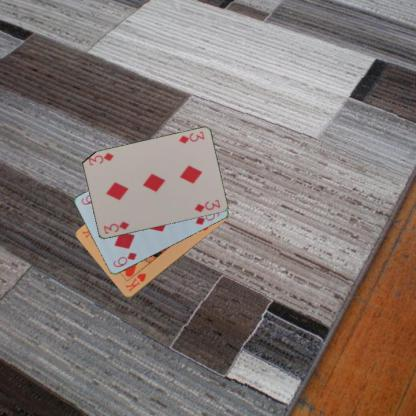3d: (101, 218, 130, 235), (176, 129, 206, 145)
6d: (110, 250, 138, 268)
Kh: (122, 271, 148, 293)
